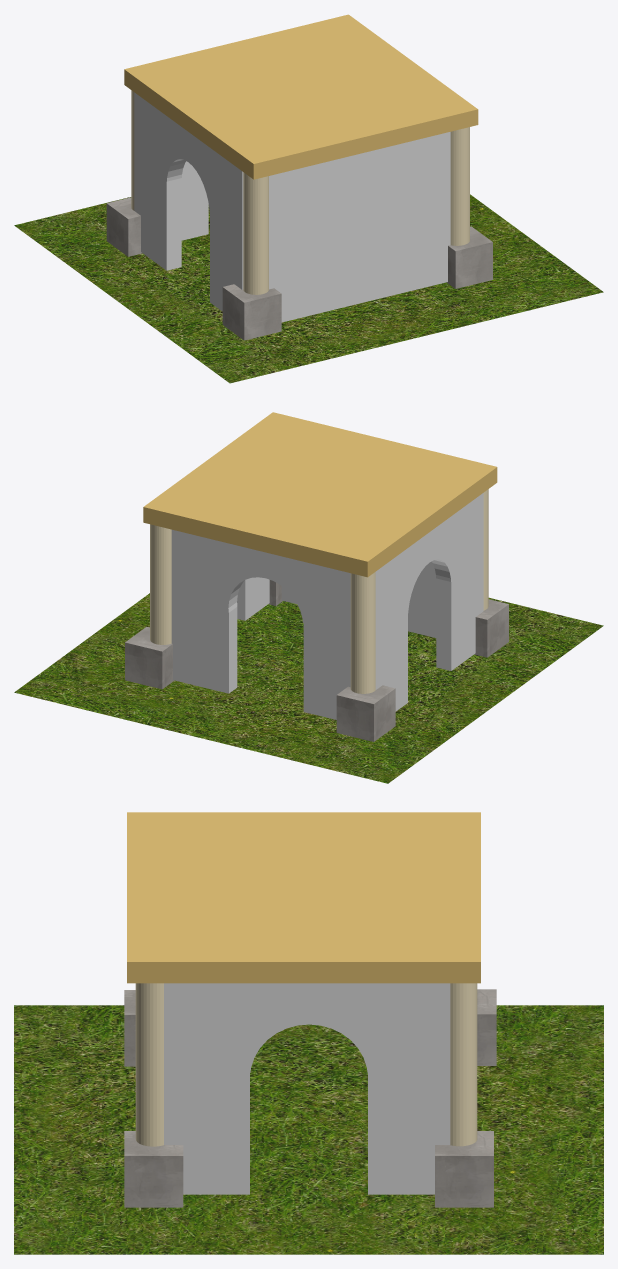
Rendered from hutChunk.fbx.
3 renders of one model, top to bottom at view 1: azimuth 30°, elevation 25°; view 2: azimuth 150°, elevation 25°; view 3: azimuth 270°, elevation 25°, orthographic. The views are drawn at different scales.
Visible parts, largest first — view 1: Cube.006; view 2: Cube.006; view 3: Cube.006.
Boxes of the visible parts, x1=… form: Cube.006: x1=14, y1=14, x2=603, y2=383; Cube.006: x1=14, y1=412, x2=603, y2=783; Cube.006: x1=14, y1=812, x2=603, y2=1254.
Bounding box in the file's own units: 1000 × 1000 × 446.
Materials: 5 (2 with a texture image).
